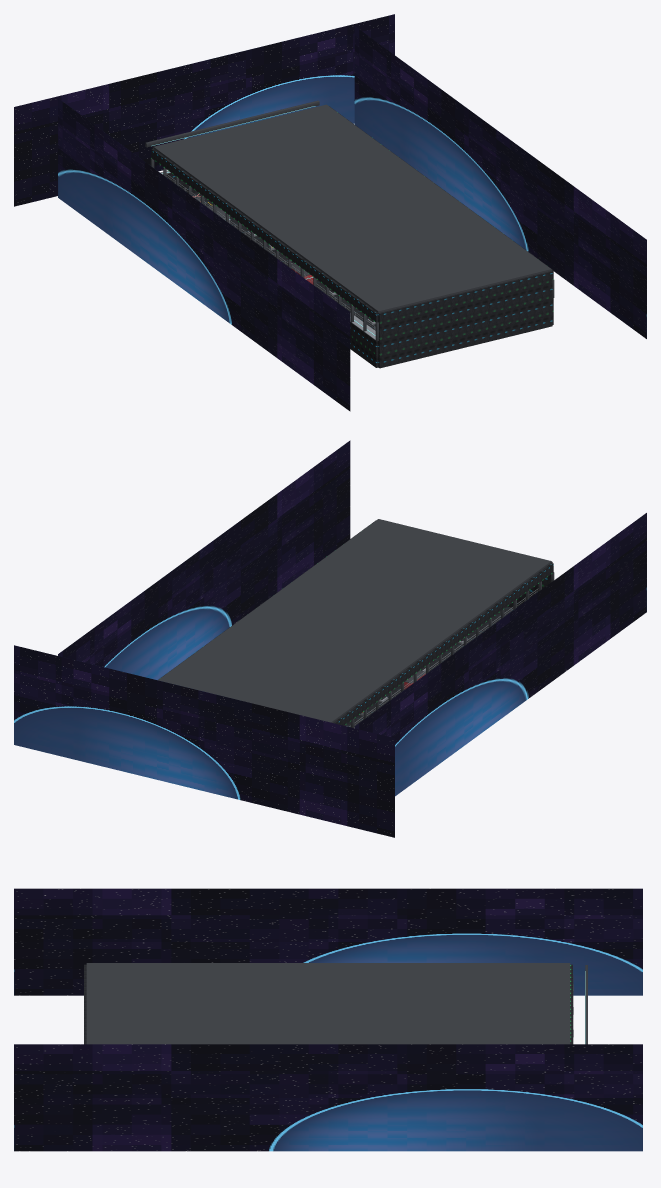
The model's file is arena2.glb.
3 renders of one model, top to bottom at view 1: azimuth 30°, elevation 25°; view 2: azimuth 150°, elevation 25°; view 3: azimuth 270°, elevation 25°, orthographic. The views are drawn at different scales.
Parts seen in each view (by area): view 1: Arena_Space, Arena_ArenaFrame, Arena_Wall, Arena_Floor, Arena_ArenaSteel; view 2: Arena_Space, Arena_ArenaFrame, Arena_Wall, Arena_Floor; view 3: Arena_Space, Arena_ArenaFrame, Arena_Wall.
Boxes of the visible parts, <box> form: Arena_Space: <box>14,14,646,411</box>; Arena_ArenaFrame: <box>145,100,554,340</box>; Arena_Wall: <box>151,106,553,368</box>; Arena_Floor: <box>191,192,375,330</box>; Arena_ArenaSteel: <box>160,170,375,339</box>; Arena_Space: <box>14,440,646,837</box>; Arena_ArenaFrame: <box>158,519,554,727</box>; Arena_Wall: <box>158,520,553,725</box>; Arena_Floor: <box>346,606,513,727</box>; Arena_Space: <box>14,888,642,1151</box>; Arena_ArenaFrame: <box>86,963,587,1044</box>; Arena_Wall: <box>84,964,572,1044</box>.
Bounding box in the file's own units: 88 × 22 × 118.
16 materials, 3 textured.
